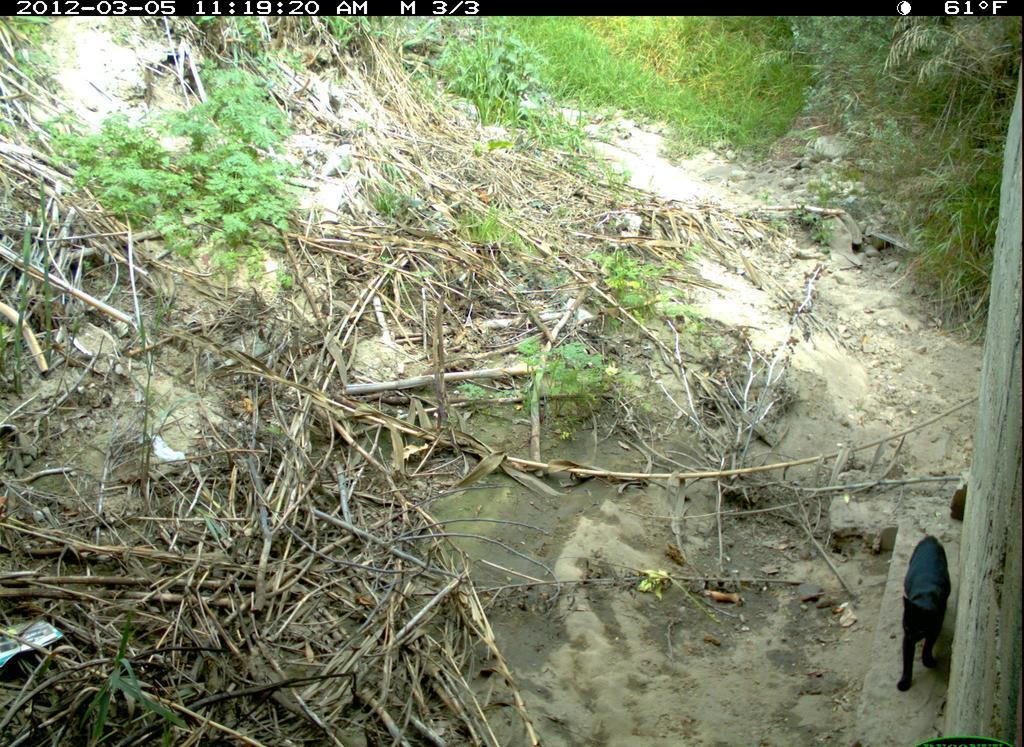cat: (886, 523, 968, 706)
